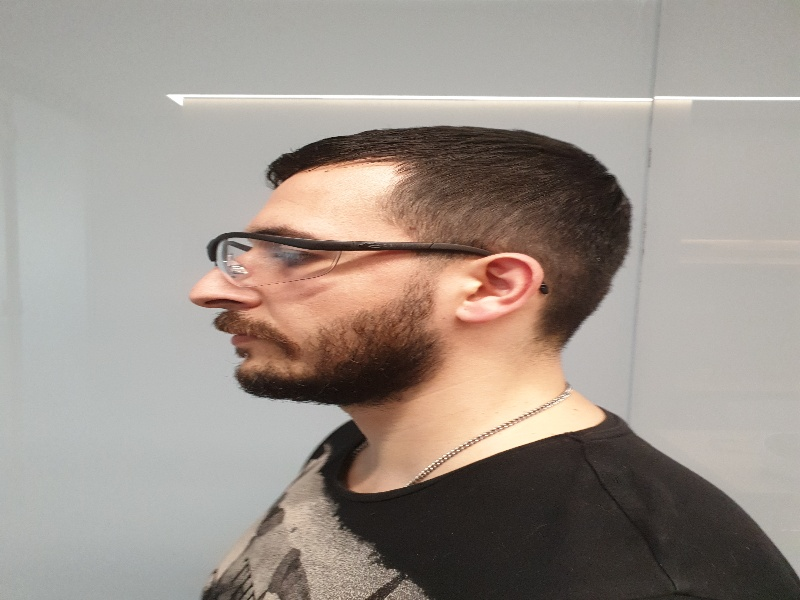Gozluk: (208, 231, 482, 280)
